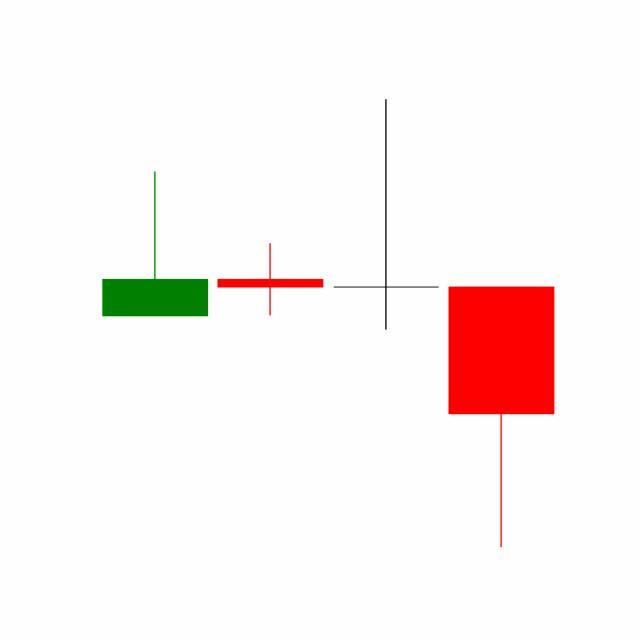Spinning Top: (329, 97, 445, 334)
